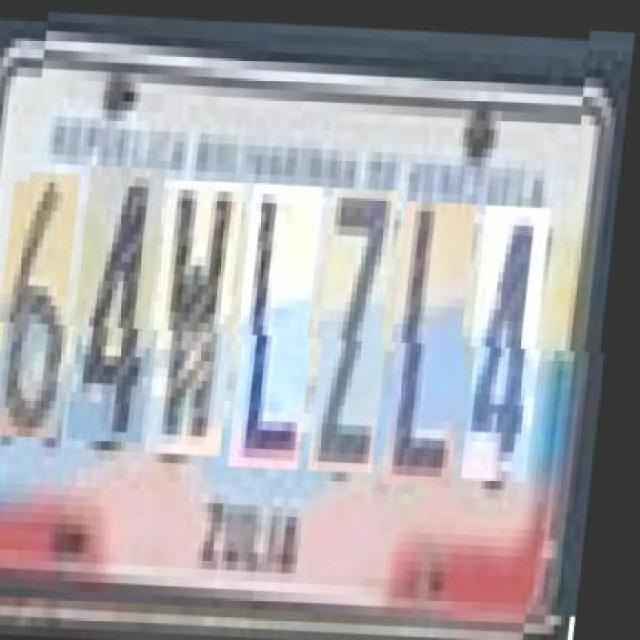4: (76, 164, 175, 441), (472, 199, 560, 476)
6: (2, 171, 89, 437)
l: (238, 181, 332, 465), (392, 197, 486, 481)
w: (156, 177, 252, 454)
z: (318, 184, 407, 468)
